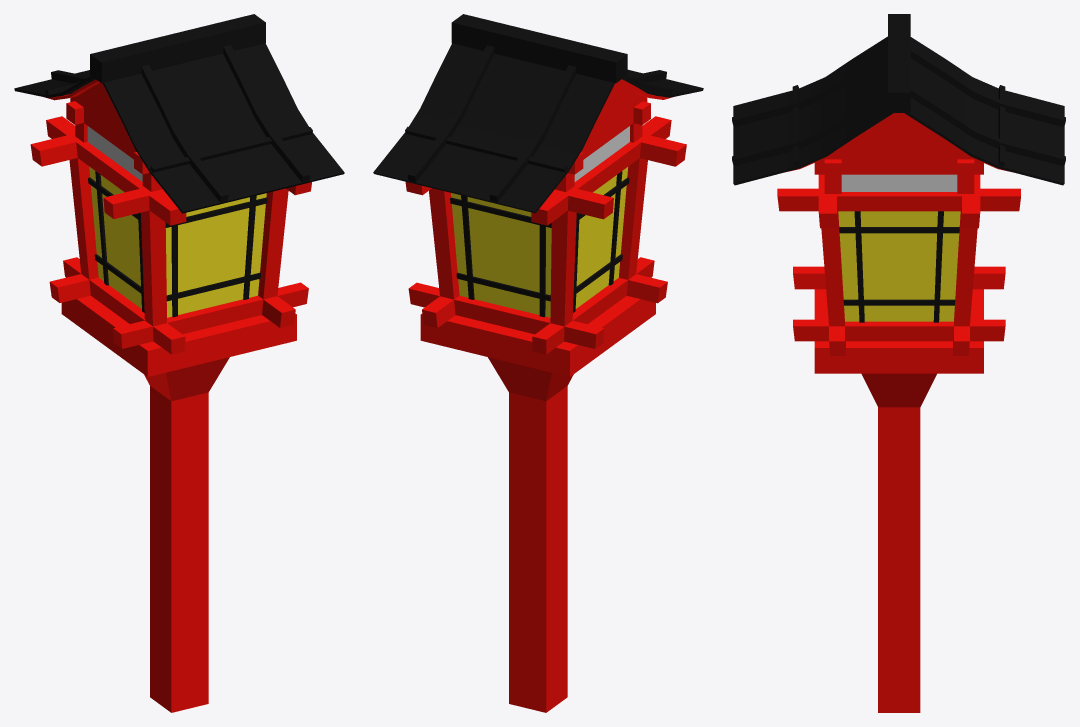
File: light.FBX
3 views of the same model, side by side, from view 1: azimuth 30°, elevation 25°; view 2: azimuth 150°, elevation 25°; view 3: azimuth 270°, elevation 25° (orthographic).
Parts seen in each view (by area): view 1: Box045, Box001, Box004, Box002, Box054, Box028, Box030, Box023, Box022, Box025, Box024, Box003 (+16 smaller); view 2: Box049, Box001, Box004, Box002, Box054, Box026, Box030, Box024, Box021, Box025, Box023, Box003 (+16 smaller); view 3: Box001, Box004, Box045, Box049, Box002, Box031, Box027, Box042, Box054, Box037, Box033, Box003 (+15 smaller).
Part boxes in pixels (x1,y1,x2,y2): Box045: [102, 43, 344, 213]; Box001: [150, 386, 208, 712]; Box004: [89, 166, 266, 317]; Box002: [61, 295, 296, 376]; Box054: [90, 14, 265, 83]; Box028: [113, 282, 308, 348]; Box030: [46, 116, 186, 225]; Box023: [140, 210, 166, 341]; Box022: [258, 188, 288, 299]; Box025: [63, 257, 185, 354]; Box024: [69, 158, 98, 279]; Box003: [144, 357, 229, 401]; Box049: [373, 43, 614, 213]; Box001: [509, 386, 567, 712]; Box004: [451, 167, 628, 317]; Box002: [420, 296, 655, 376]; Box054: [451, 14, 627, 83]; Box026: [408, 282, 604, 348]; Box030: [531, 116, 671, 225]; Box024: [550, 211, 576, 326]; Box021: [429, 188, 459, 315]; Box025: [532, 257, 654, 354]; Box023: [619, 158, 647, 279]; Box003: [488, 357, 573, 401]; Box001: [878, 407, 920, 712]; Box004: [838, 211, 960, 321]; Box045: [733, 36, 898, 185]; Box049: [899, 37, 1064, 185]; Box002: [814, 289, 983, 373]; Box031: [777, 188, 1020, 211]; Box027: [793, 319, 1005, 341]; Box042: [821, 113, 976, 160]; Box054: [888, 14, 910, 112]; Box037: [814, 159, 983, 174]; Box033: [841, 174, 957, 191]; Box003: [861, 373, 936, 407].
Bounding box in the file's own units: 34.02 × 100 × 46.61.
